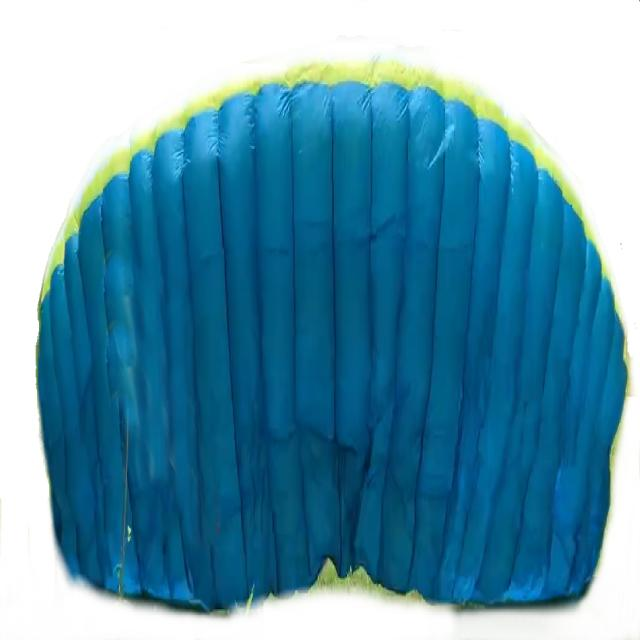paraglider: (34, 51, 632, 614)
